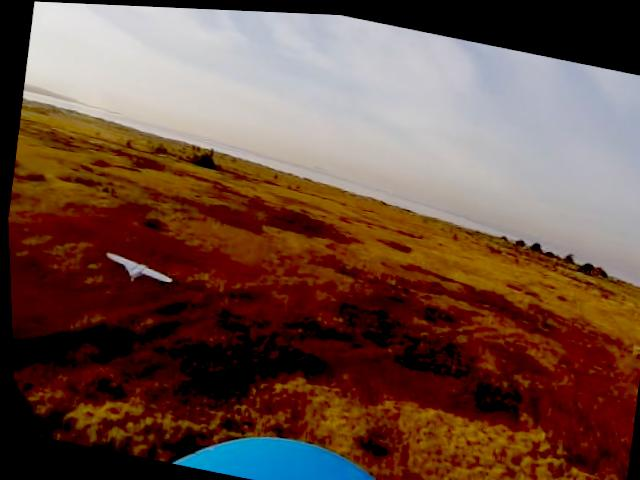uav: (101, 250, 173, 289)
